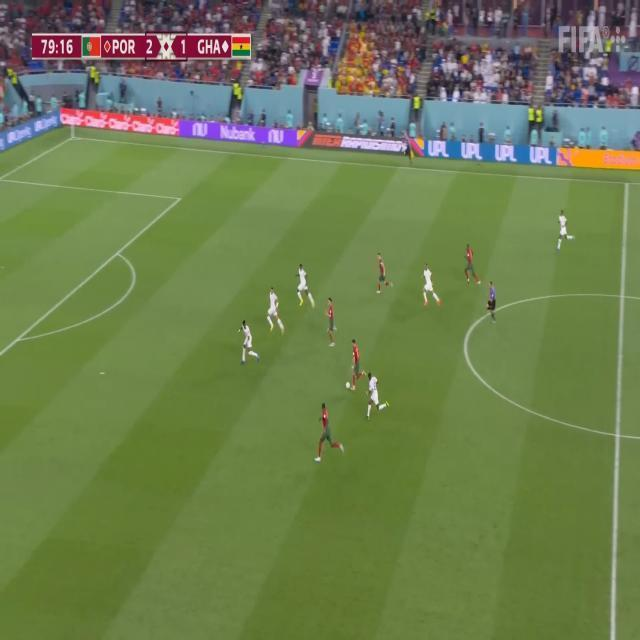player: (315, 402, 344, 469), (364, 370, 391, 423), (296, 264, 319, 318), (349, 330, 368, 393), (238, 315, 259, 370), (555, 204, 576, 259), (420, 262, 440, 315), (267, 284, 284, 343), (326, 296, 342, 355), (465, 240, 482, 291), (377, 245, 393, 298)
